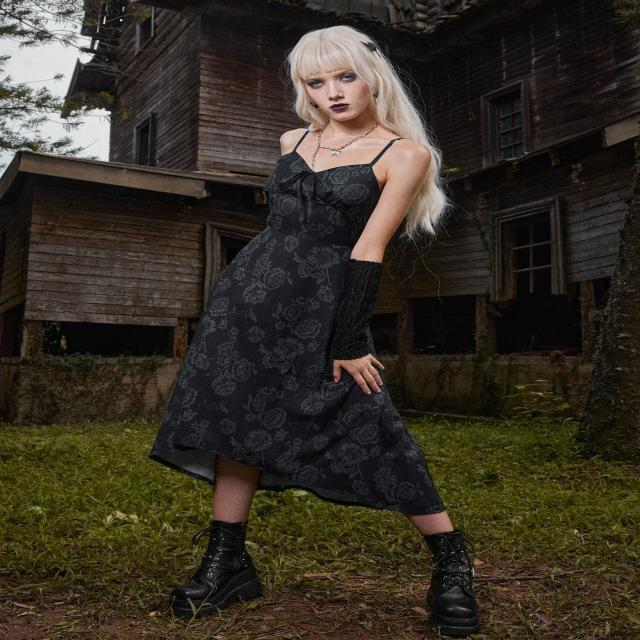Earring: (372, 88, 380, 104)
